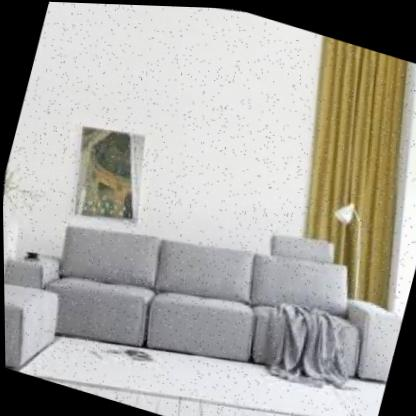Sofa: (1, 124, 416, 416)
